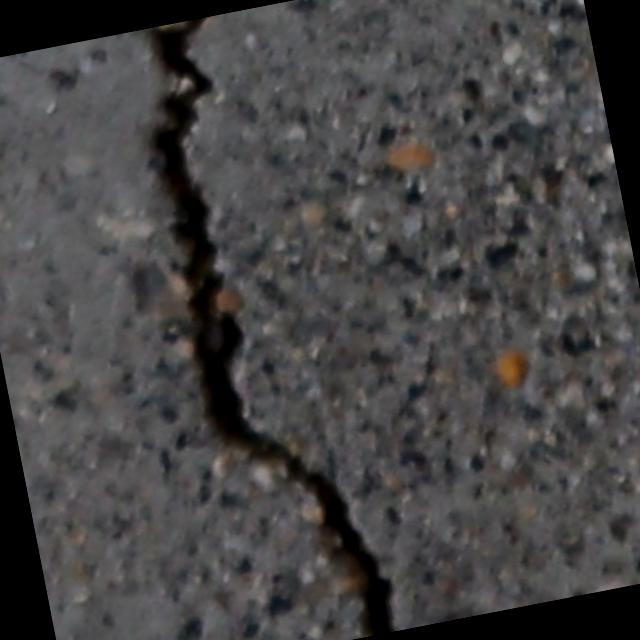crack: (80, 2, 402, 640)
